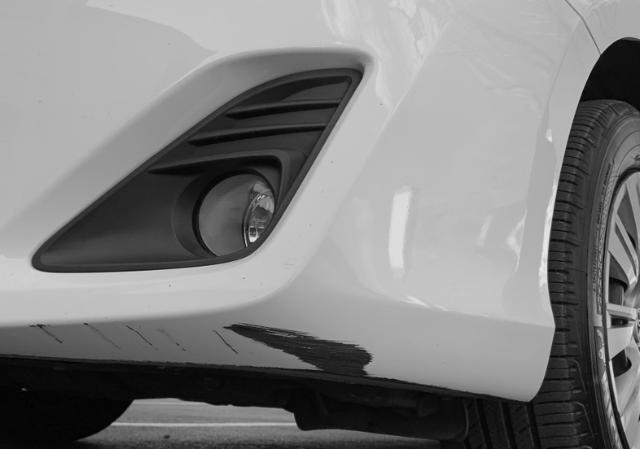Bumper: (18, 290, 403, 383)
